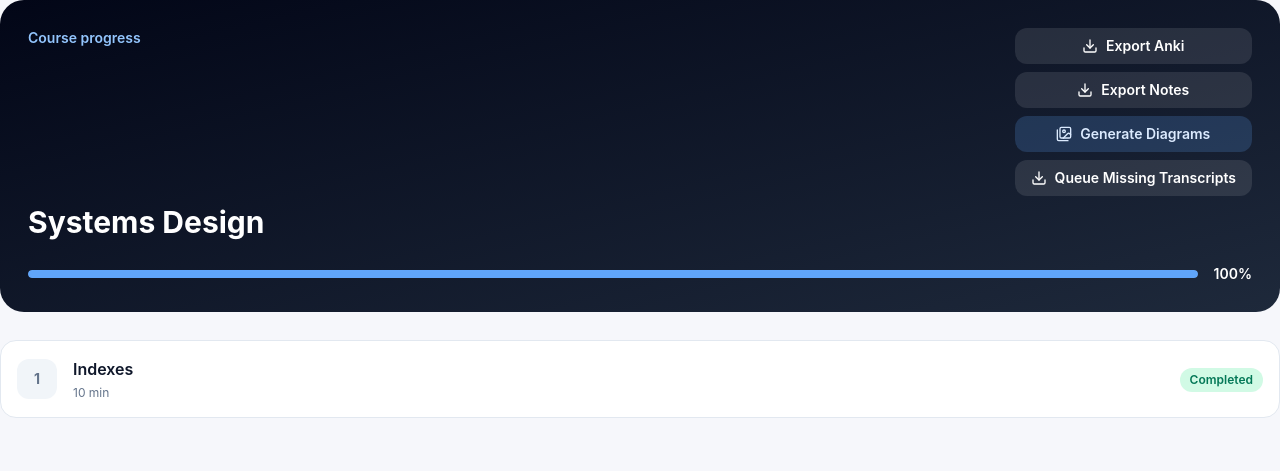
diagram enrichment › completed course starts diagram enrichment and displays progress
The width and height of the screenshot is (1280, 471).
Step 1. Click the button "Generate Diagrams" → (1133, 134), box [1015,116,1252,152]
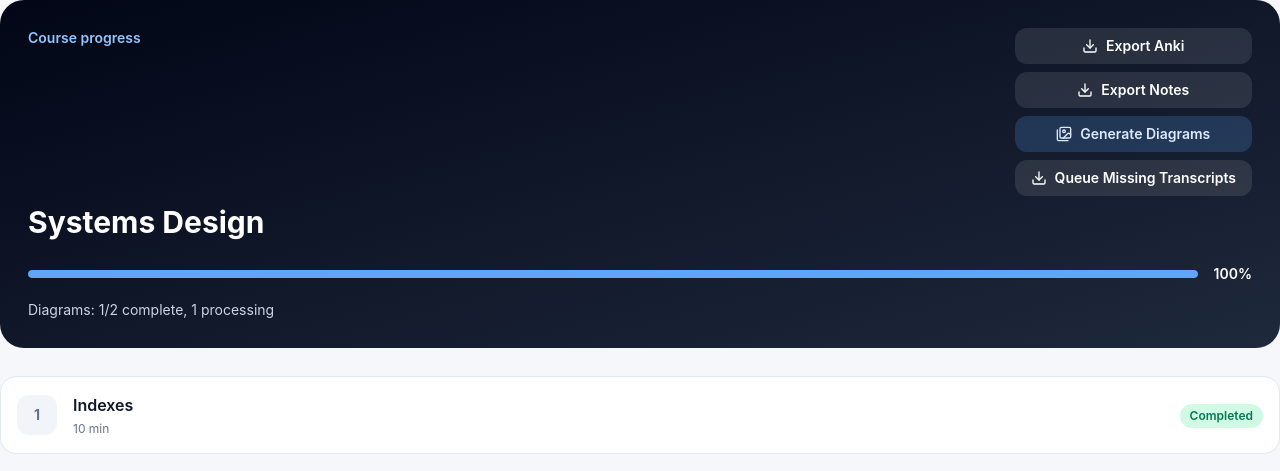
Expected: the text "Diagrams: 1/2 complete, 1 processing" is shown, [28,301,274,318]
